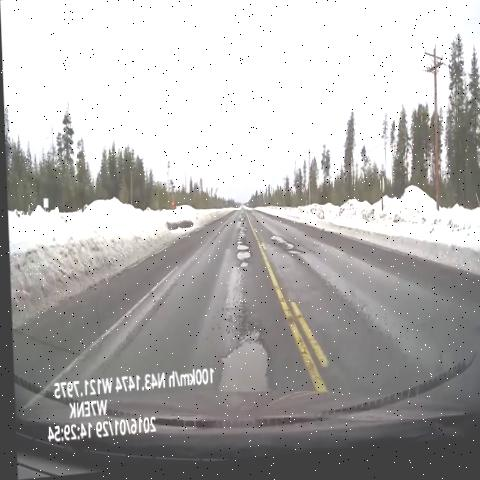pothole: (211, 321, 273, 406), (261, 222, 308, 277), (228, 205, 258, 287)
